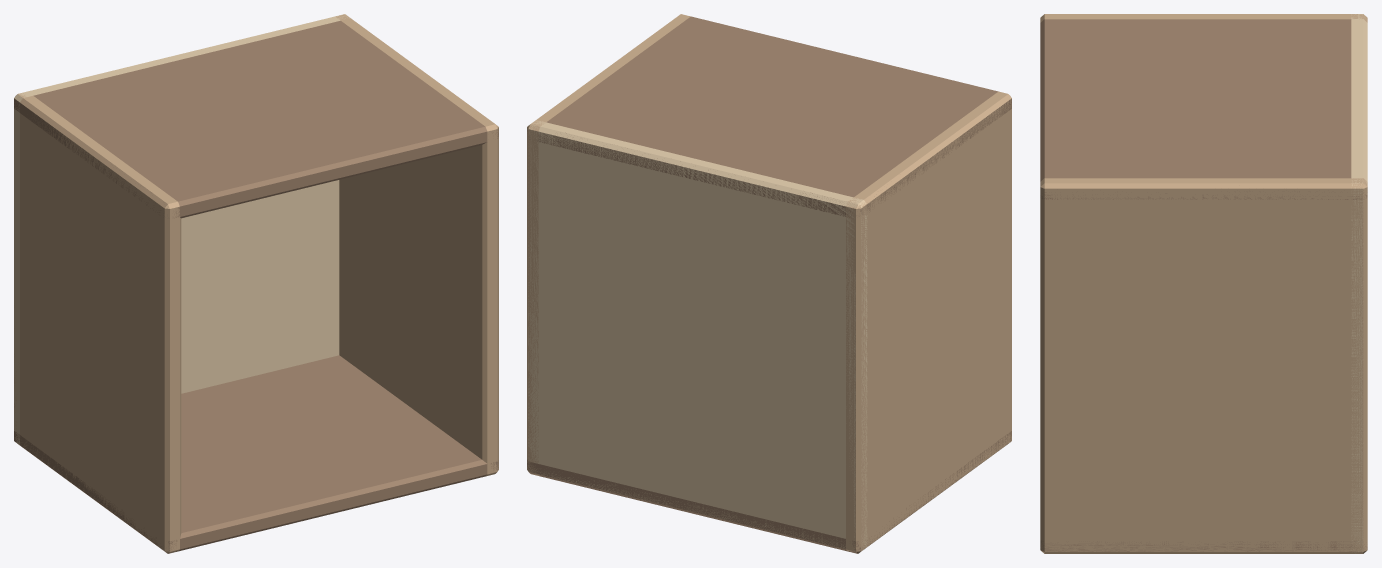
The picture shows the model from 3 angles, left to right: view 1: azimuth 30°, elevation 25°; view 2: azimuth 150°, elevation 25°; view 3: azimuth 270°, elevation 25°; orthographic projection. The views are drawn at different scales.
Parts seen in each view (by area): view 1: SpaceSaver_WallSys_Cube_1x1; view 2: SpaceSaver_WallSys_Cube_1x1; view 3: SpaceSaver_WallSys_Cube_1x1.
Boxes of the visible parts, <box> form: SpaceSaver_WallSys_Cube_1x1: <box>14,14,498,553</box>; SpaceSaver_WallSys_Cube_1x1: <box>527,14,1011,553</box>; SpaceSaver_WallSys_Cube_1x1: <box>1040,14,1367,553</box>.
Size of the model in its own units: 0.4 by 0.4 by 0.32.
